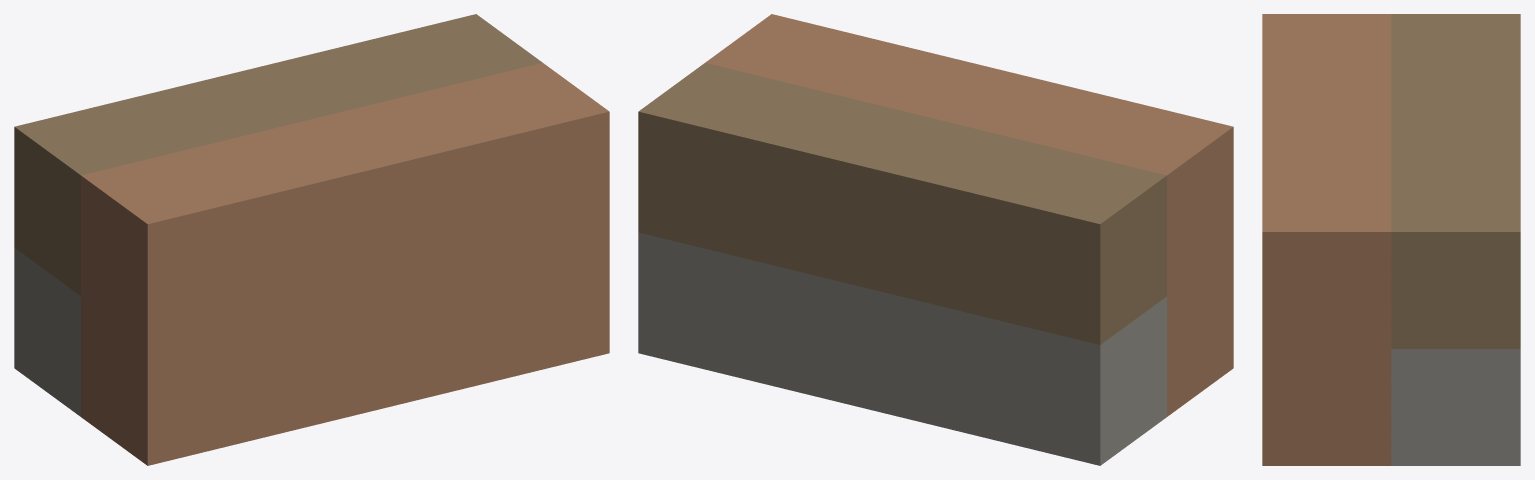
The model's file is tijeras_podar_oxidado_01.glb.
3 views of the same model, side by side, from view 1: azimuth 30°, elevation 25°; view 2: azimuth 150°, elevation 25°; view 3: azimuth 270°, elevation 25° (orthographic). The views are drawn at different scales.
Parts seen in each view (by area): view 1: tijeras_podar_oxidado; view 2: tijeras_podar_oxidado; view 3: tijeras_podar_oxidado.
Boxes of the visible parts, <box> form: tijeras_podar_oxidado: <box>14,14,609,465</box>; tijeras_podar_oxidado: <box>638,14,1233,465</box>; tijeras_podar_oxidado: <box>1262,14,1520,465</box>.
Size of the model in its own units: 0.4 by 0.2 by 0.2.
